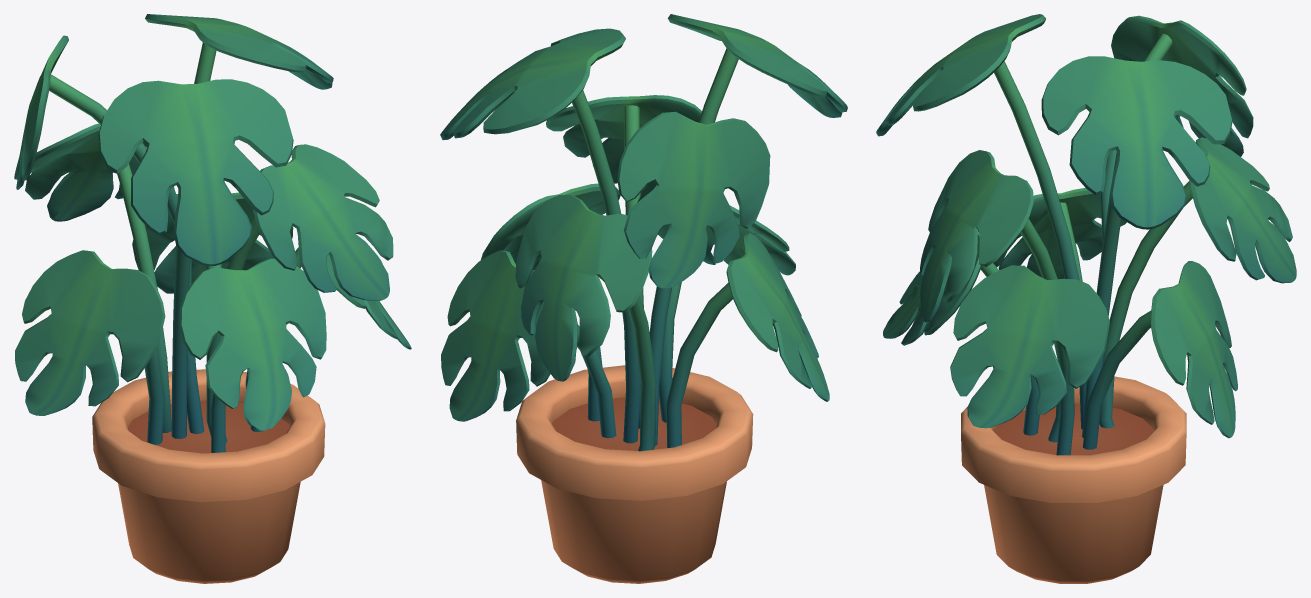
File: monstera_plant_large_potted.fbx
3 views of the same model, side by side, from view 1: azimuth 30°, elevation 25°; view 2: azimuth 150°, elevation 25°; view 3: azimuth 270°, elevation 25° (orthographic). The views are drawn at different scales.
Parts seen in each view (by area): view 1: monstera_plant_large_potted; view 2: monstera_plant_large_potted; view 3: monstera_plant_large_potted.
Boxes of the visible parts, box(x1,y1,x2,y2) form: monstera_plant_large_potted: box(14, 14, 411, 583); monstera_plant_large_potted: box(440, 14, 847, 583); monstera_plant_large_potted: box(876, 14, 1296, 583).
Bounding box in the file's own units: 259 × 368 × 279.
Materials: 1 (1 with a texture image).
